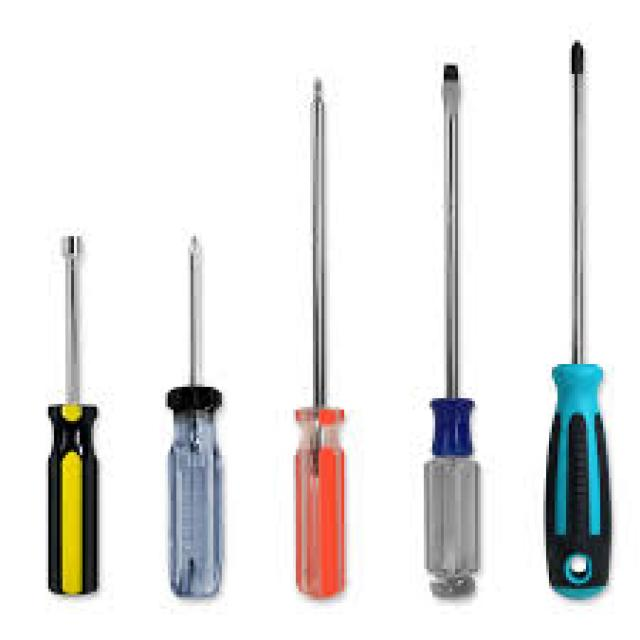Screwdriver: (549, 43, 614, 599), (427, 65, 481, 599), (296, 80, 347, 599), (168, 236, 225, 599), (48, 236, 97, 596)
